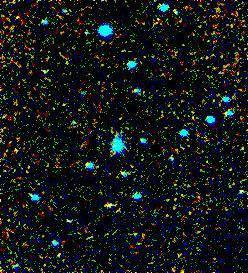star: (91, 192, 121, 222)
